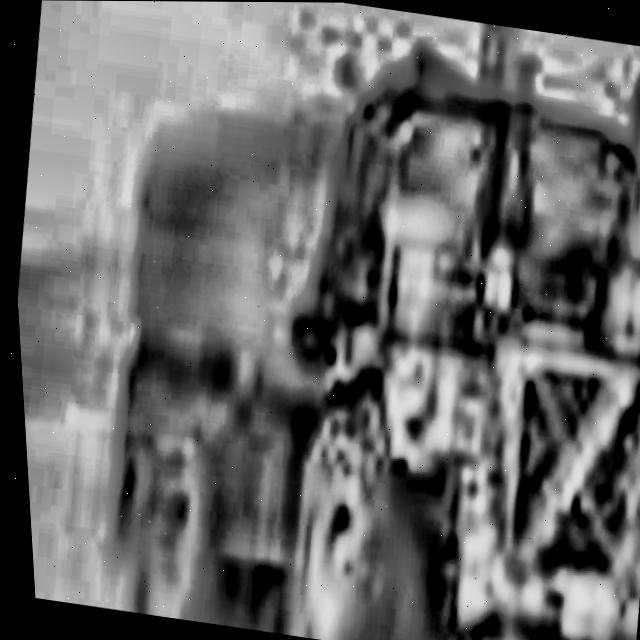dump_truck: (64, 0, 640, 640)
